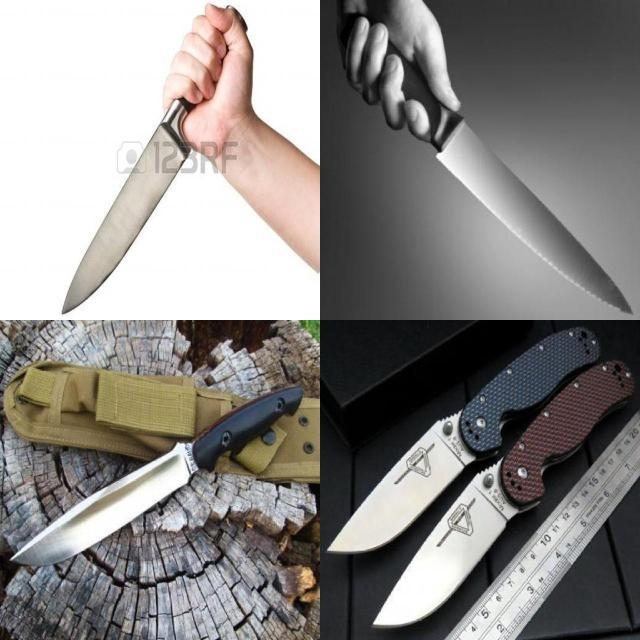-: (379, 51, 636, 315), (57, 39, 226, 316), (4, 432, 207, 570), (324, 402, 476, 555), (366, 475, 510, 630)
